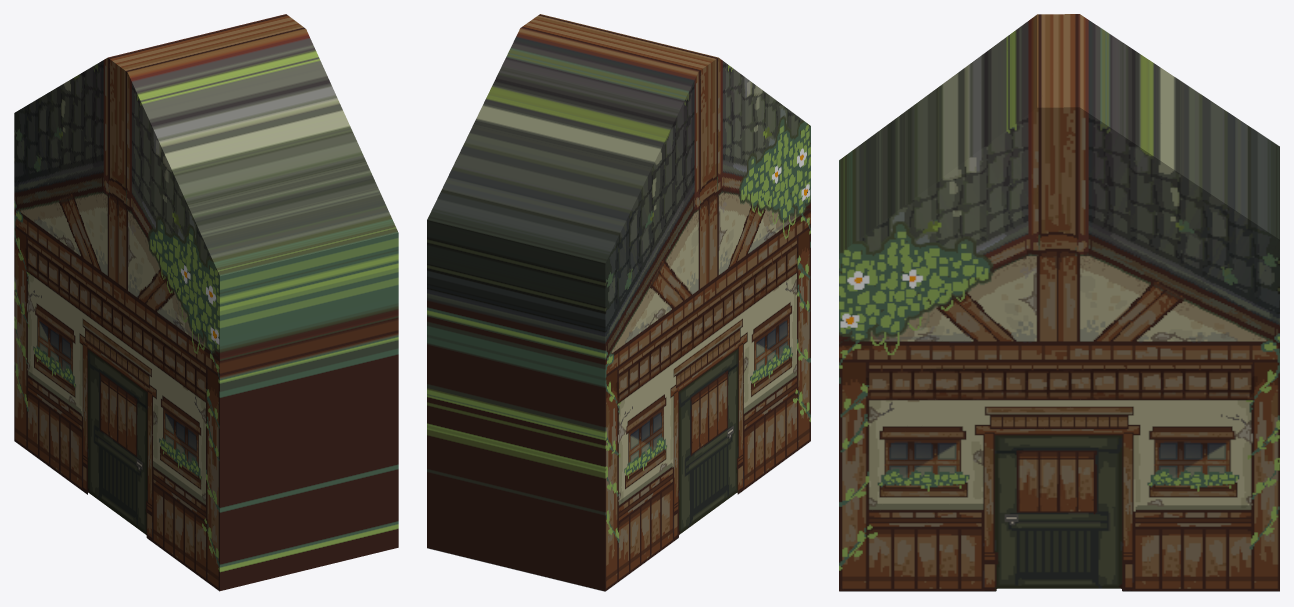
File: house1tex.fbx
The picture shows the model from 3 angles, left to right: view 1: azimuth 30°, elevation 25°; view 2: azimuth 150°, elevation 25°; view 3: azimuth 270°, elevation 25°; orthographic projection. The views are drawn at different scales.
Parts seen in each view (by area): view 1: house; view 2: house; view 3: house.
Part boxes in pixels (x1,y1,x2,y2): house: (14,14,398,591); house: (427,14,810,591); house: (839,14,1279,591).
Bounding box in the file's own units: 128 × 311 × 255.
Materials: 1 (1 with a texture image).
